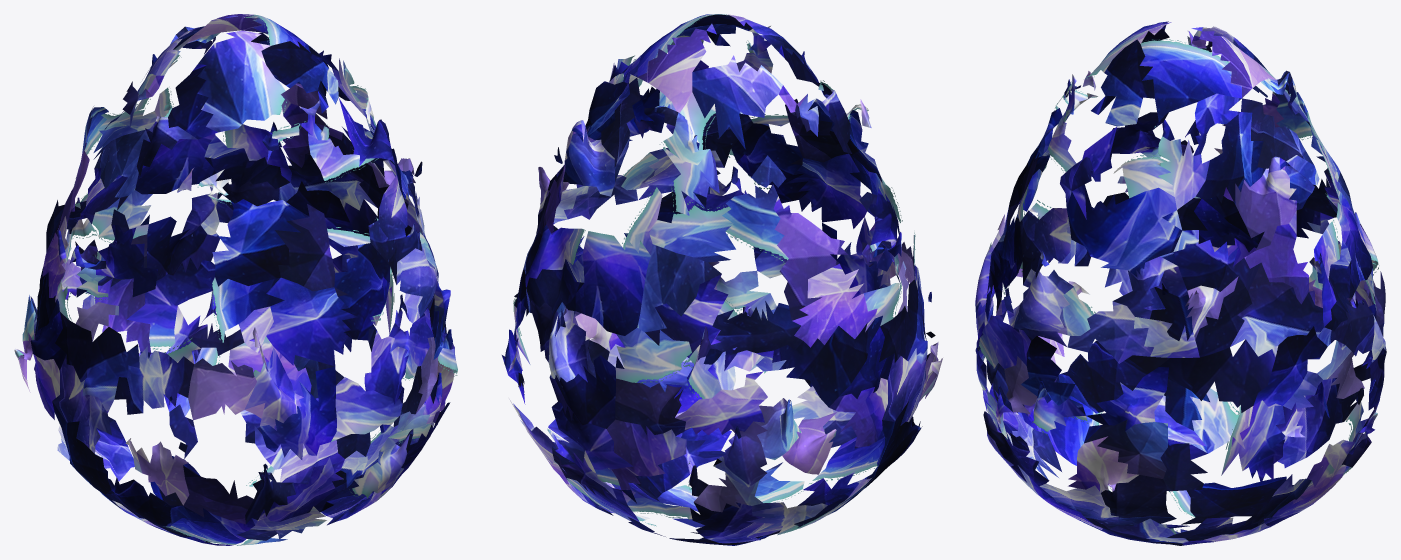
Rendered from black_ice_egg_10k.fbx.
3 renders of one model, left to right at view 1: azimuth 30°, elevation 25°; view 2: azimuth 150°, elevation 25°; view 3: azimuth 270°, elevation 25°, orthographic.
Parts seen in each view (by area): view 1: black_ice_egg_decimated; view 2: black_ice_egg_decimated; view 3: black_ice_egg_decimated.
Part boxes in pixels (<box>): black_ice_egg_decimated: <box>14,14,457,545</box>; black_ice_egg_decimated: <box>502,14,942,545</box>; black_ice_egg_decimated: <box>975,21,1386,545</box>.
Bounding box in the file's own units: 1.44 × 1.91 × 1.41.
